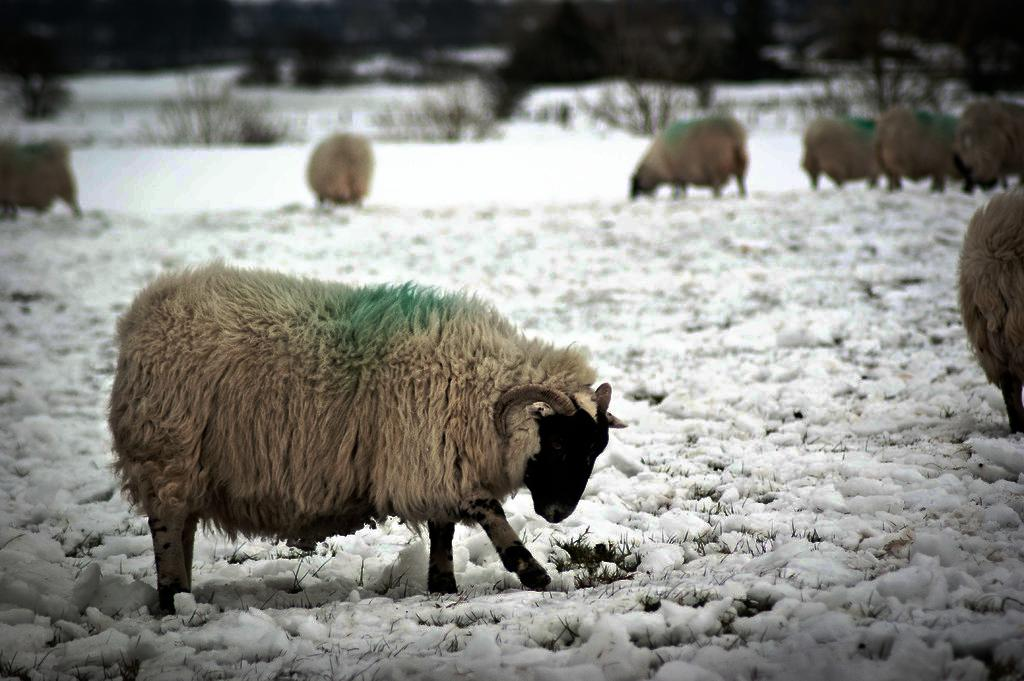Sheep: (110, 264, 623, 614), (962, 180, 1024, 428), (629, 114, 751, 194), (878, 103, 966, 188), (954, 106, 1024, 194), (802, 115, 884, 186)
